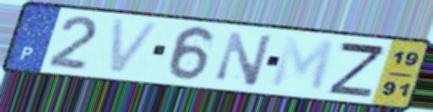2: (46, 14, 100, 73)
6: (165, 24, 218, 83)
M: (267, 34, 338, 94)
N: (214, 29, 277, 89)
V: (107, 16, 165, 76)
Z: (326, 40, 389, 100)
